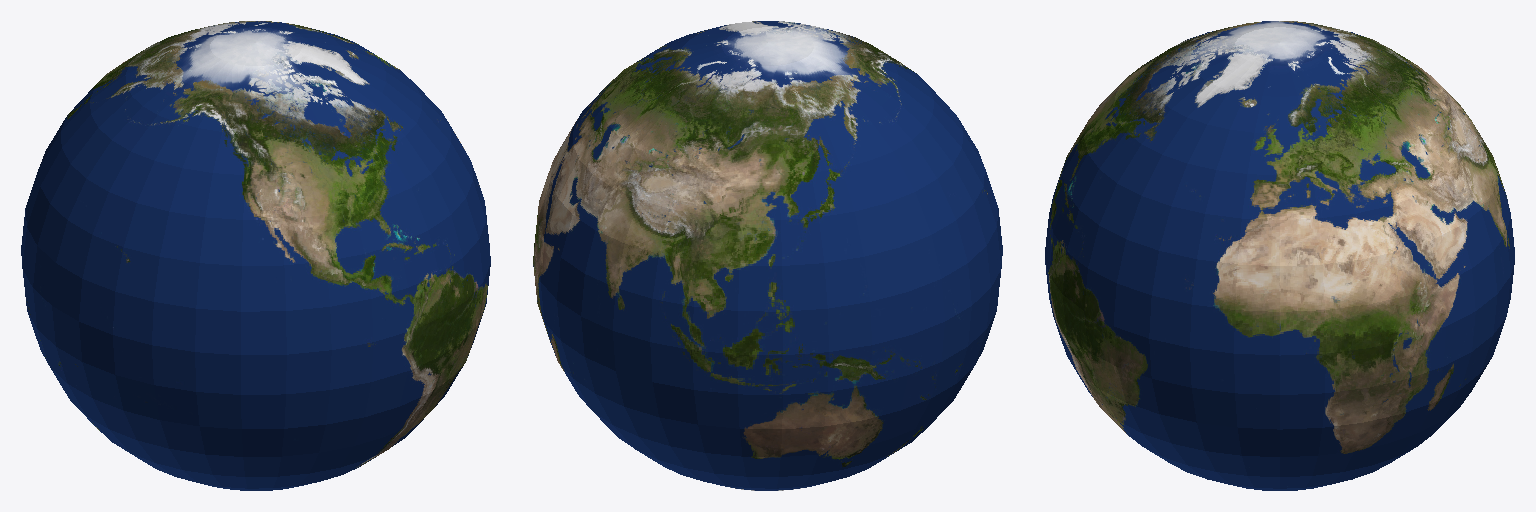
3 renders of one model, left to right at view 1: azimuth 30°, elevation 25°; view 2: azimuth 150°, elevation 25°; view 3: azimuth 270°, elevation 25°, orthographic.
Parts seen in each view (by area): view 1: Icosphere; view 2: Icosphere; view 3: Icosphere.
Boxes of the visible parts, x1,y1,x2,y2 form: Icosphere: [21, 21, 490, 490]; Icosphere: [533, 21, 1002, 490]; Icosphere: [1045, 21, 1514, 490].
Size of the model in its own units: 4 by 4 by 4.
Materials: 1 (1 with a texture image).